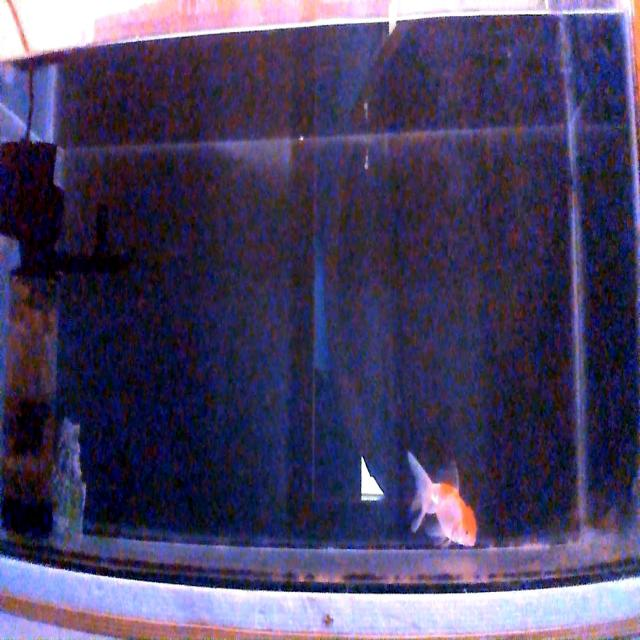fish: (406, 449, 476, 550)
